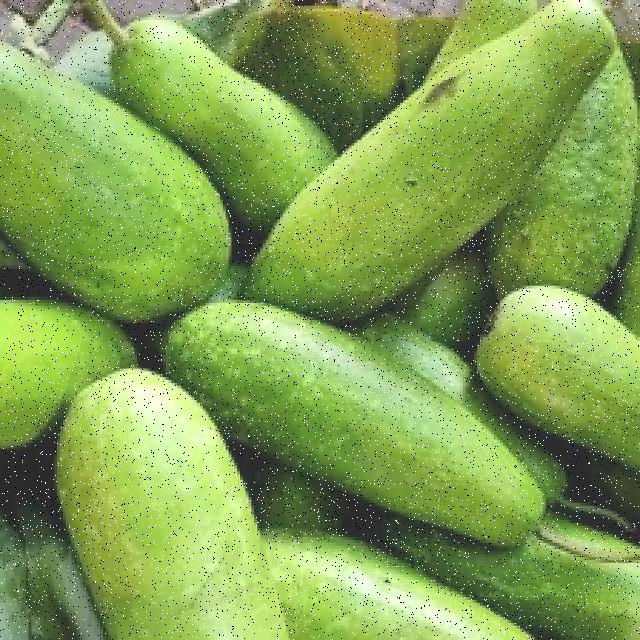Bottle Gourd: (188, 293, 566, 551)
